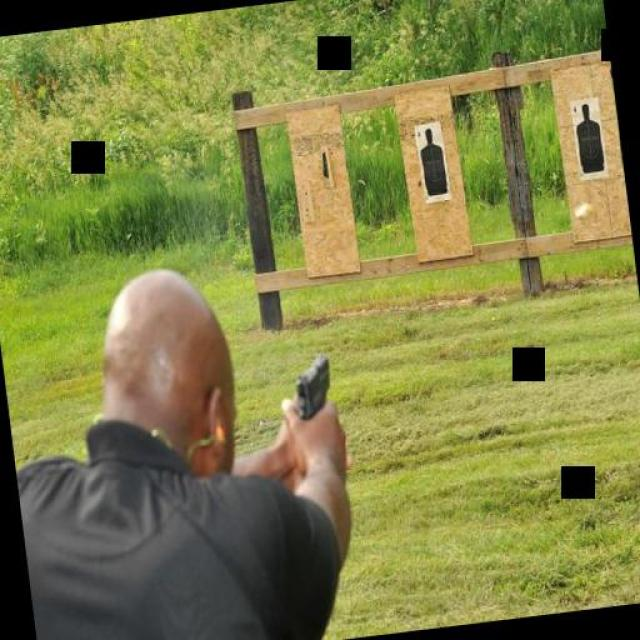gun: (285, 342, 339, 427)
